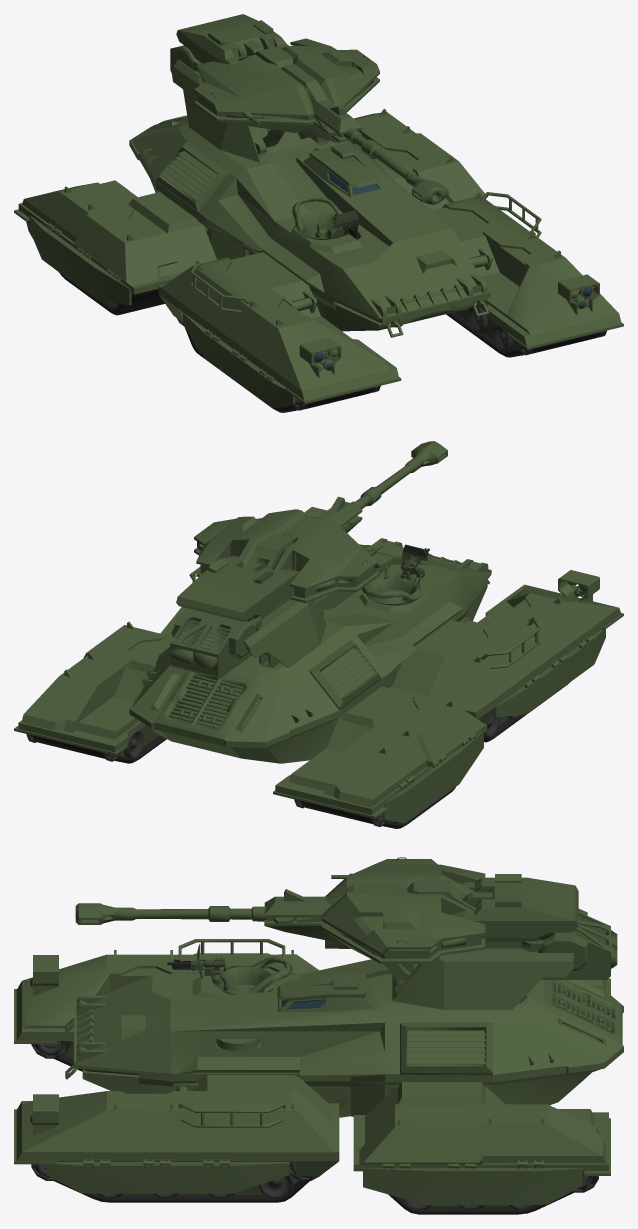
Rendered from Scorpion.fbx.
The picture shows the model from 3 angles, top to bottom: view 1: azimuth 30°, elevation 25°; view 2: azimuth 150°, elevation 25°; view 3: azimuth 270°, elevation 25°; orthographic projection. The views are drawn at different scales.
Parts seen in each view (by area): view 1: scorpion_100, scorpion_turrets_105, scorpion_101, scorpion_turrets_106, tread_right_113, tread_left_112, scorpion_turrets_nodetail_107, scorpion_wheels_left_110; view 2: scorpion_100, scorpion_turrets_105, scorpion_101, scorpion_turrets_106, tread_right_113, scorpion_turrets_nodetail_107, tread_left_112; view 3: scorpion_100, scorpion_turrets_105, scorpion_turrets_106, scorpion_101, tread_left_112, scorpion_turrets_nodetail_107, scorpion_wheels_left_110, scorpion_wheels_109.
Part boxes in pixels (x1,y1,x2,y2): scorpion_100: (14,108,623,349); scorpion_turrets_105: (157,14,448,240); scorpion_101: (158,252,401,404); scorpion_turrets_106: (30,140,463,407); tread_right_113: (59,272,375,412); tread_left_112: (446,312,601,357); scorpion_turrets_nodetail_107: (284,210,518,406); scorpion_wheels_left_110: (468,306,512,351); scorpion_100: (14,507,491,818); scorpion_turrets_105: (154,441,447,739); scorpion_101: (389,570,623,723); scorpion_turrets_106: (156,629,605,823); tread_right_113: (300,683,568,828); scorpion_turrets_nodetail_107: (119,544,508,821); tread_left_112: (32,735,166,763); scorpion_100: (14,959,623,1176); scorpion_turrets_105: (75,857,622,1044); scorpion_turrets_106: (46,987,609,1205); scorpion_101: (14,939,318,1043); tread_left_112: (35,1167,594,1214); scorpion_turrets_nodetail_107: (47,944,510,1206); scorpion_wheels_left_110: (97,1173,535,1209); scorpion_wheels_109: (31,1041,319,1180).
Bounding box in the file's own units: 7.79 × 4.41 × 10.23.
